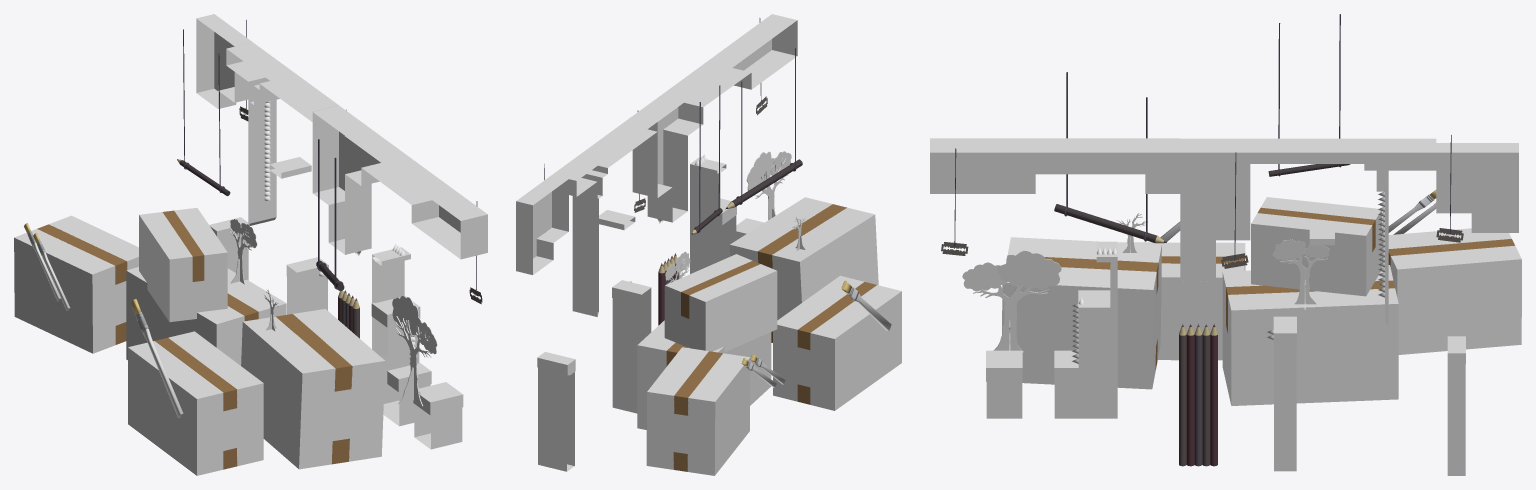
File: Pantalla13-DEF.fbx
3 views of the same model, side by side, from view 1: azimuth 30°, elevation 25°; view 2: azimuth 150°, elevation 25°; view 3: azimuth 270°, elevation 25° (orthographic). The views are drawn at different scales.
Parts seen in each view (by area): view 1: Cube (10), Caja_1, Caja_1.001, Caja_1.002, Cube.001, Cube, Arbol1.006, Cylinder.002, Cube.002, Cylinder.003, Cylinder.005, Arbol2.007 (+1 smaller); view 2: Cube (10), Caja_1.001, Caja_1.002, Caja_1, Cube.001, Cube, Cylinder.002, Cylinder.003, Arbol2.007, Cylinder.005, Cube.002, Arbol1.006; view 3: Cube (10), Cube, Caja_1.002, Caja_1, Cube.001, Cylinder.005, Caja_1.001, Arbol2.007, Cylinder.002, Arbol1.006, Cylinder.003, Arbol2.006 (+1 smaller).
Boxes of the visible parts, bbox=[...] form: Cube (10): bbox=[196, 14, 487, 449]; Caja_1: bbox=[241, 309, 385, 469]; Caja_1.001: bbox=[128, 331, 263, 475]; Caja_1.002: bbox=[14, 215, 138, 353]; Cube.001: bbox=[139, 208, 227, 322]; Cube: bbox=[126, 267, 286, 365]; Arbol1.006: bbox=[395, 316, 431, 406]; Cylinder.002: bbox=[316, 139, 344, 290]; Cube.002: bbox=[130, 299, 183, 417]; Cylinder.003: bbox=[177, 29, 230, 196]; Cylinder.005: bbox=[338, 290, 359, 338]; Arbol2.007: bbox=[392, 296, 421, 335]; Cube (10): bbox=[516, 14, 797, 471]; Caja_1.001: bbox=[773, 275, 901, 410]; Caja_1.002: bbox=[646, 347, 750, 475]; Caja_1: bbox=[729, 197, 878, 342]; Cube.001: bbox=[664, 254, 777, 351]; Cube: bbox=[637, 320, 771, 429]; Cylinder.002: bbox=[725, 48, 802, 209]; Cylinder.003: bbox=[691, 85, 722, 234]; Arbol2.007: bbox=[746, 151, 774, 190]; Cylinder.005: bbox=[658, 253, 678, 325]; Cube.002: bbox=[841, 280, 891, 330]; Arbol1.006: bbox=[754, 158, 787, 219]; Cube (10): bbox=[930, 138, 1518, 475]; Cube: bbox=[1222, 265, 1398, 405]; Caja_1.002: bbox=[1382, 228, 1521, 354]; Caja_1: bbox=[1002, 237, 1161, 389]; Cube.001: bbox=[1251, 197, 1381, 296]; Cylinder.005: bbox=[1179, 324, 1217, 466]; Caja_1.001: bbox=[1119, 242, 1245, 360]; Arbol2.007: bbox=[997, 250, 1061, 289]; Cylinder.002: bbox=[1054, 72, 1166, 243]; Arbol1.006: bbox=[973, 285, 1048, 352]; Cylinder.003: bbox=[1268, 14, 1350, 176]; Arbol2.006: bbox=[962, 262, 1006, 291].
Size of the model in its own units: 4148 by 6722 by 8987.
